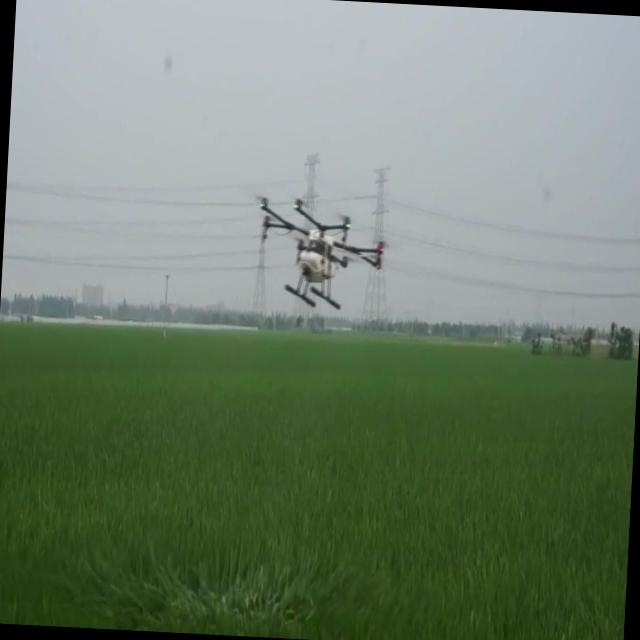drone: (250, 188, 396, 322)
